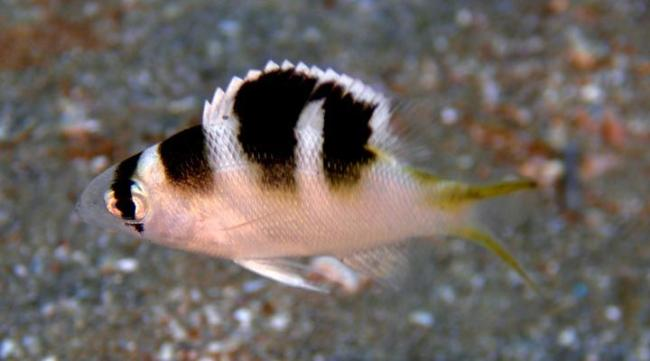fish: (74, 58, 546, 303)
